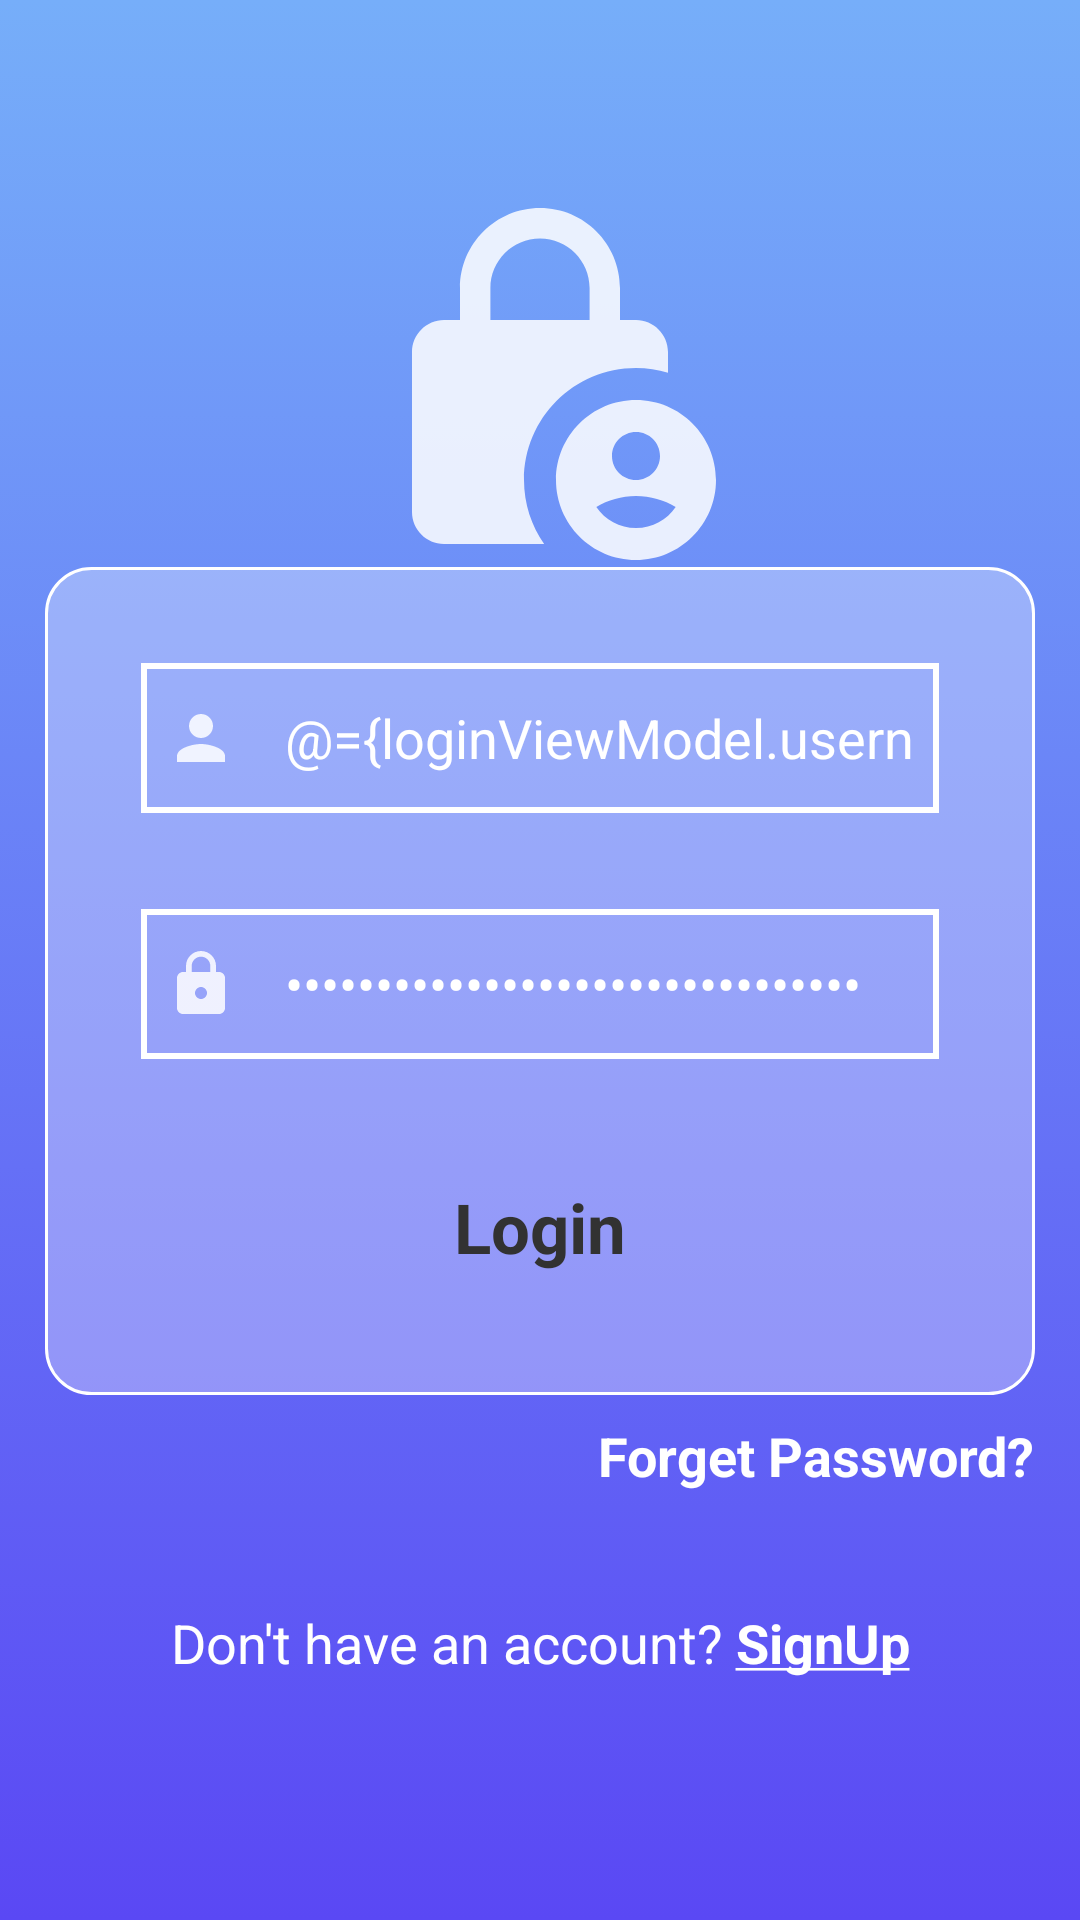

Icon click points for this 1080w x 1920h phone screenshot, format [x,y]:
lock person: [564,384]
